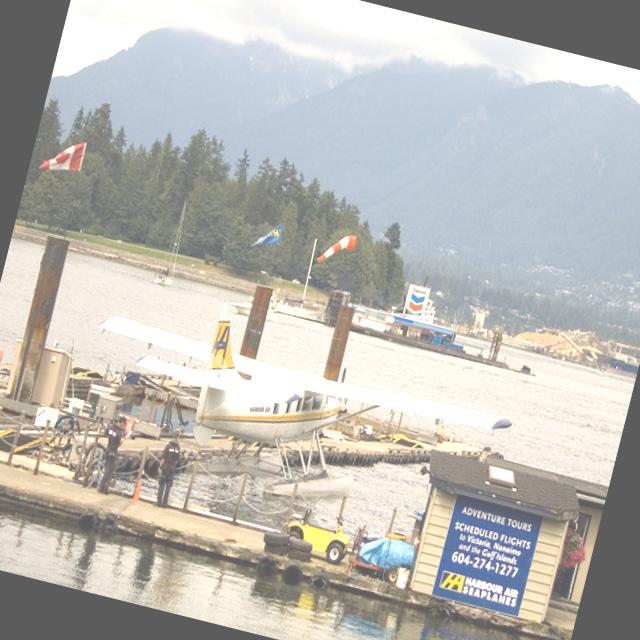Vehicle: (268, 499, 354, 566), (281, 503, 355, 567)
